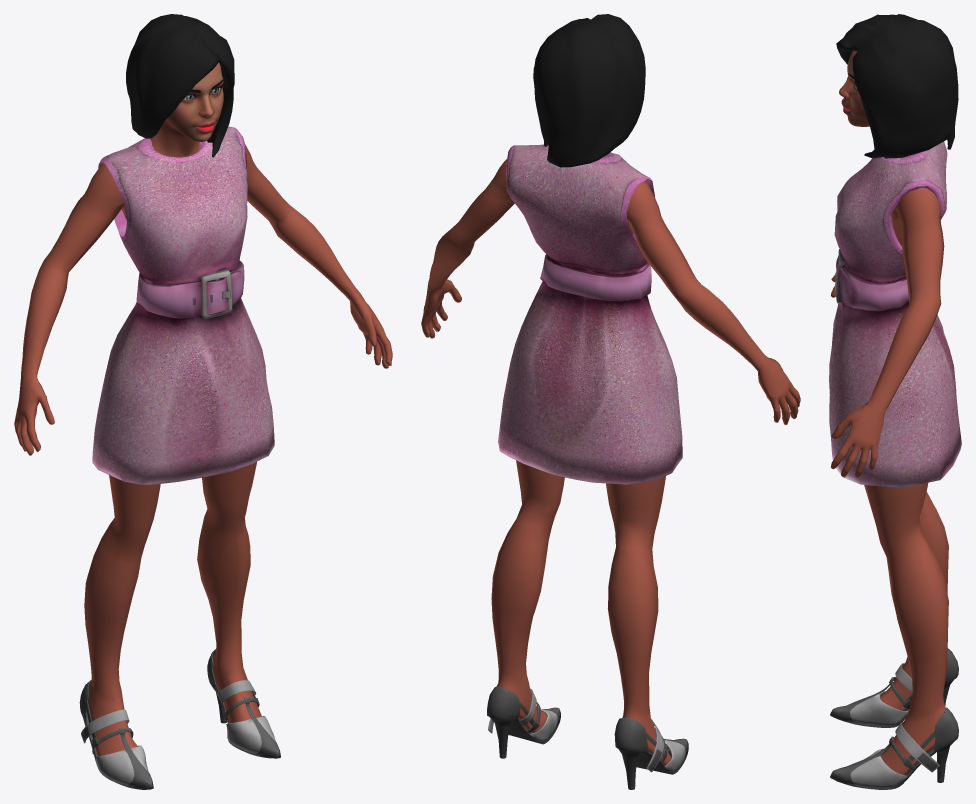
File: singer.fbx
3 renders of one model, left to right at view 1: azimuth 30°, elevation 25°; view 2: azimuth 150°, elevation 25°; view 3: azimuth 270°, elevation 25°, orthographic.
Visible parts, largest first — view 1: Wolf3D_Outfit_Top, Wolf3D_Body, Wolf3D_Hair, Wolf3D_Outfit_Footwear, Wolf3D_Head; view 2: Wolf3D_Outfit_Top, Wolf3D_Body, Wolf3D_Hair, Wolf3D_Outfit_Footwear; view 3: Wolf3D_Outfit_Top, Wolf3D_Body, Wolf3D_Hair, Wolf3D_Outfit_Footwear, Wolf3D_Head.
Boxes of the visible parts, bbox=[...] form: Wolf3D_Outfit_Top: bbox=[92, 126, 274, 484]; Wolf3D_Body: bbox=[14, 145, 392, 756]; Wolf3D_Hair: bbox=[126, 14, 234, 157]; Wolf3D_Outfit_Footwear: bbox=[79, 649, 280, 789]; Wolf3D_Head: bbox=[150, 62, 223, 157]; Wolf3D_Outfit_Top: bbox=[498, 144, 682, 484]; Wolf3D_Body: bbox=[421, 159, 800, 765]; Wolf3D_Hair: bbox=[533, 14, 645, 167]; Wolf3D_Outfit_Footwear: bbox=[487, 686, 688, 789]; Wolf3D_Outfit_Top: bbox=[829, 141, 961, 487]; Wolf3D_Body: bbox=[831, 188, 948, 775]; Wolf3D_Hair: bbox=[836, 14, 958, 158]; Wolf3D_Outfit_Footwear: bbox=[830, 648, 958, 789]; Wolf3D_Head: bbox=[839, 50, 869, 126].
Bounding box in the file's own units: 92.79 × 177 × 29.18.
7 materials, 7 textured.
